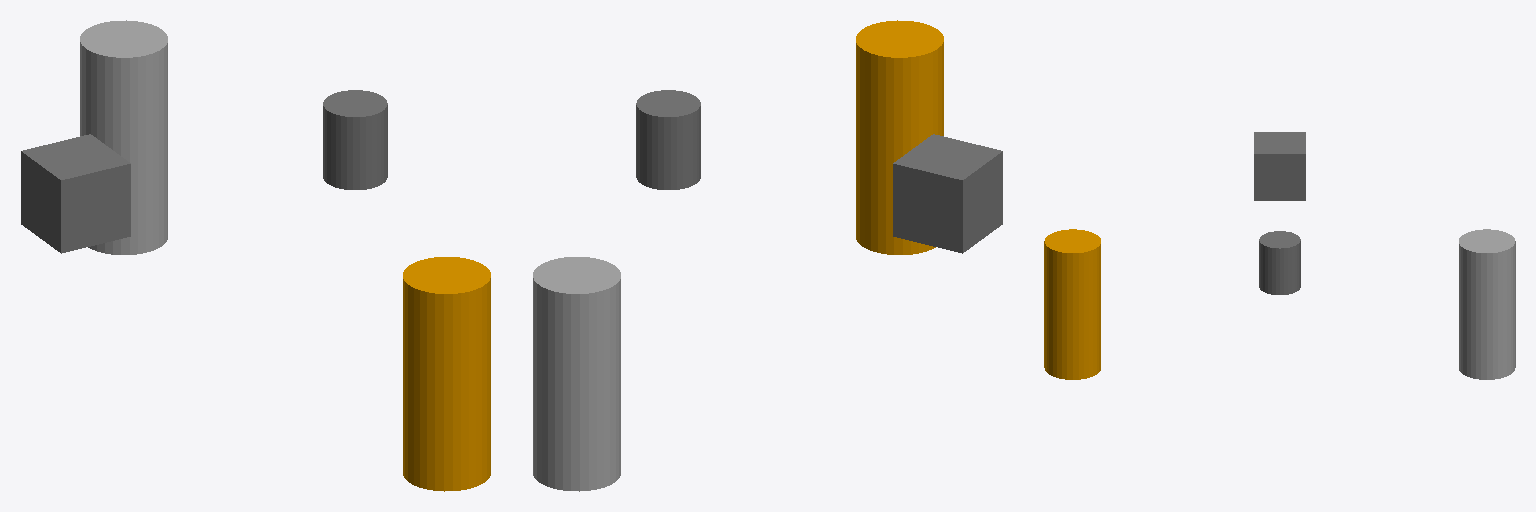
URDF robot description (orca4_ign):
<?xml version='1.0'?>
<robot name="orca4_ign" xmlns:xacro="http://ros.org/wiki/xacro">
    <origin xyz="0 0 0" rpy="0 0 0"/>
    <material name="grey">
      <color rgba="0.5 0.5 0.5 1.0"/>
    </material>

    <!-- BlueROV2 thruster reference: http://www.ardusub.com/introduction/features.html -->
    <!-- fluid_density: 1000 -->
    <!-- displaced_mass: 10.05 -->

    <link name="base_link">
      <inertial>
        <origin xyz="0 0 0.011" rpy="0 0 0"/>
        <mass value="10.036"/>
        <inertia ixx="0.09873097998042396" ixy="0.0" ixz="0.0" iyy="0.17756847998042397" iyz="0.0" izz="0.2692441666666667"/>
      </inertial>

      <visual name="base_link_visual">
        <geometry>
          <mesh filename="package://auv_slam/models/orca4_ign/meshes/bluerov2.dae" scale = "0.025 0.025 0.025"/>
        </geometry>
      </visual>

      <!-- Collision volume * fluid_density == displaced mass, used by BuoyancyPlugin -->
      <collision name="base_link_collision">
        <origin xyz="0 0 0.06" rpy="0 0 0"/>
        <geometry>
          <box size = "0.457 0.338 0.06506286173008947"/>
        </geometry>
      </collision>

    </link>

    <!-- Hydrodynamics plugin -->
    <gazebo>
    <plugin
        filename="ignition-gazebo-hydrodynamics-system"
        name="ignition::gazebo::systems::Hydrodynamics">
      <link_name>base_link</link_name>
      <water_density>1000</water_density>
      <!-- Added mass: -->
      <xDotU>0</xDotU>
      <yDotV>0</yDotV>
      <zDotW>0</zDotW>
      <kDotP>0</kDotP>
      <mDotQ>0</mDotQ>
      <nDotR>0</nDotR>
      <!-- First order stability derivative: -->
      <xU>0</xU>
      <yV>0</yV>
      <zW>0</zW>
      <kP>0</kP>
      <mQ>0</mQ>
      <nR>0</nR>
      <!-- Second order stability derivative: -->
      <xUabsU>-33.800000000000004</xUabsU>
      <yVabsV>-54.26875</yVabsV>
      <zWabsW>-73.37135</zWabsW>
      <kPabsP>-4.0</kPabsP>
      <mQabsQ>-4.0</mQabsQ>
      <nRabsR>-4.0</nRabsR>
    </plugin>
    </gazebo>

    <link name="thruster1">
      <visual name="thruster_prop_visual">
        <origin xyz="0 0 0" rpy="1.5707963267948966 0 0"/>
        <geometry>
          <mesh filename="package://auv_slam/models/orca4_ign/meshes/t200-cw-prop.dae"/>
        </geometry>
      </visual>
      <inertial>
        <mass value="0.002"/>
        <inertia ixx="0.001" ixy="0.0" ixz="0.0" iyy="0.001" iyz="0.0" izz="0.001" />
      </inertial>
    </link>

    <link name="thruster2">
      <origin xyz="0.14 0.092 0" rpy="-1.5707963267948966 1.5707963267948966 -2.356194490192345"/>
      <visual name="thruster_prop_visual">
        <origin xyz="0 0 0" rpy="1.5707963267948966 0 0"/>
        <geometry>
          <mesh filename="package://auv_slam/models/orca4_ign/meshes/t200-ccw-prop.dae"/>
        </geometry>
      </visual>
      <inertial>
        <mass value="0.002"/>
        <inertia ixx="0.001" ixy="0.0" ixz="0.0" iyy="0.001" iyz="0.0" izz="0.001" />
      </inertial>
    </link>

    <link name="thruster3">
      <origin xyz="-0.14 -0.092 0" rpy="-1.5707963267948966 1.5707963267948966 0.7853981633974483"/>
      <visual name="thruster_prop_visual">
        <origin xyz="0 0 0" rpy="-1.5707963267948966 0 0"/>
        <geometry>
          <mesh filename="package://auv_slam/models/orca4_ign/meshes/t200-ccw-prop.dae"/>
        </geometry>
      </visual>
      <inertial>
        <mass value="0.002"/>
        <inertia ixx="0.001" ixy="0.0" ixz="0.0" iyy="0.001" iyz="0.0" izz="0.001" />
      </inertial>
    </link>

    <link name="thruster4">
      <origin xyz="-0.14 0.092 0" rpy="-1.5707963267948966 1.5707963267948966 2.356194490192345"/>
      <visual name="thruster_prop_visual">
        <origin xyz="0 0 0" rpy="1.5707963267948966 0 0"/>
        <geometry>
          <mesh filename="package://auv_slam/models/orca4_ign/meshes/t200-cw-prop.dae"/>
        </geometry>
      </visual>
      <inertial>
        <mass value="0.002"/>
        <inertia ixx="0.001" ixy="0.0" ixz="0.0" iyy="0.001" iyz="0.0" izz="0.001" />
      </inertial>
    </link>

    <link name="thruster5">
      <origin xyz="0 -0.109 0.077" rpy="0 0 0"/>
      <visual name="thruster_prop_visual">
        <origin xyz="0 0 0" rpy="-1.5707963267948966 0 1.5707963267948966"/>
        <geometry>
          <mesh filename="package://auv_slam/models/orca4_ign/meshes/t200-ccw-prop.dae"/>
        </geometry>
      </visual>
      <inertial>
        <mass value="0.002"/>
        <inertia ixx="0.001" ixy="0.0" ixz="0.0" iyy="0.001" iyz="0.0" izz="0.001" />
      </inertial>
    </link>

    <link name="thruster6">
      <origin xyz="0 0.109 0.077" rpy="0 0 0"/>
      <visual name="thruster_prop_visual">
        <origin xyz="0 0 0" rpy="1.5707963267948966 0 1.5707963267948966"/>
        <geometry>
          <mesh filename="package://auv_slam/models/orca4_ign/meshes/t200-cw-prop.dae"/>
        </geometry>
      </visual>
      <inertial>
        <mass value="0.002"/>
        <inertia ixx="0.001" ixy="0.0" ixz="0.0" iyy="0.001" iyz="0.0" izz="0.001" />
      </inertial>
    </link>


    <joint name="thruster1_joint" type="revolute">
      <parent link = "base_link" />
      <child link = "thruster1" />
      <origin xyz="0.14 -0.092 0" rpy="-1.5707963267948966 1.5707963267948966 -0.7853981633974483"/>
      <axis xyz = "0 0 -1" />
      <limit lower="-1e+12" upper="1e+12" effort="-1" velocity="-1"/>
    </joint>

    <joint name="thruster2_joint" type="revolute">
      <parent link = "base_link" />
      <child link = "thruster2" />
      <origin xyz="0.14 0.092 0" rpy="-1.5707963267948966 1.5707963267948966 -2.356194490192345"/>
      <axis xyz = "0 0 -1" />
      <limit lower="-1e+12" upper="1e+12" effort="-1" velocity="-1"/>
    </joint>

    <joint name="thruster3_joint" type="revolute">
      <parent link = "base_link" />
      <child link = "thruster3" />
      <origin xyz="-0.14 -0.092 0" rpy="-1.5707963267948966 1.5707963267948966 0.7853981633974483"/>
      <axis xyz = "0 0 -1" />
      <limit lower="-1e+12" upper="1e+12" effort="-1" velocity="-1"/>
    </joint>

    <joint name="thruster4_joint" type="revolute">
      <parent link = "base_link" />
      <child link = "thruster4" />
      <origin xyz="-0.14 0.092 0" rpy="-1.5707963267948966 1.5707963267948966 2.356194490192345"/>
      <axis xyz = "0 0 -1" />
      <limit lower="-1e+12" upper="1e+12" effort="-1" velocity="-1"/>
    </joint>

    <joint name="thruster5_joint" type="revolute">
      <parent link = "base_link" />
      <child link = "thruster5" />
      <origin xyz="0 -0.109 0.077" rpy="0 0 0"/>
      <axis xyz = "0 0 -1" />
      <limit lower="-1e+12" upper="1e+12" effort="-1" velocity="-1"/>
    </joint>

    <joint name="thruster6_joint" type="revolute">
      <parent link = "base_link" />
      <child link = "thruster6" />
      <origin xyz="0 0.109 0.077" rpy="0 0 0"/>
      <axis xyz = "0 0 -1" />
      <limit lower="-1e+12" upper="1e+12" effort="-1" velocity="-1"/>
    </joint>

    <gazebo>
    <plugin
        filename="ignition-gazebo-thruster-system"
        name="ignition::gazebo::systems::Thruster">
      <namespace>orca4_ign</namespace>
      <joint_name>thruster1_joint</joint_name>
      <thrust_coefficient>1</thrust_coefficient>
      <fluid_density>1000</fluid_density>
      <propeller_diameter>0.1</propeller_diameter>
      <velocity_control>true</velocity_control>
      <use_angvel_cmd>False</use_angvel_cmd>
    </plugin>
    </gazebo>

    <gazebo>
    <plugin
        filename="ignition-gazebo-thruster-system"
        name="ignition::gazebo::systems::Thruster">
      <namespace>orca4_ign</namespace>
      <joint_name>thruster2_joint</joint_name>
      <thrust_coefficient>1</thrust_coefficient>
      <fluid_density>1000</fluid_density>
      <propeller_diameter>0.1</propeller_diameter>
      <velocity_control>true</velocity_control>
      <use_angvel_cmd>False</use_angvel_cmd>
    </plugin>
    </gazebo>

    <gazebo>
    <plugin
        filename="ignition-gazebo-thruster-system"
        name="ignition::gazebo::systems::Thruster">
      <namespace>orca4_ign</namespace>
      <joint_name>thruster3_joint</joint_name>
      <thrust_coefficient>-1</thrust_coefficient>
      <fluid_density>1000</fluid_density>
      <propeller_diameter>0.1</propeller_diameter>
      <velocity_control>true</velocity_control>
      <use_angvel_cmd>False</use_angvel_cmd>
    </plugin>
    </gazebo>

    <gazebo>
    <plugin
        filename="ignition-gazebo-thruster-system"
        name="ignition::gazebo::systems::Thruster">
      <namespace>orca4_ign</namespace>
      <joint_name>thruster4_joint</joint_name>
      <thrust_coefficient>-1</thrust_coefficient>
      <fluid_density>1000</fluid_density>
      <propeller_diameter>0.1</propeller_diameter>
      <velocity_control>true</velocity_control>
      <use_angvel_cmd>False</use_angvel_cmd>
    </plugin>
    </gazebo>

    <gazebo>
    <plugin
        filename="ignition-gazebo-thruster-system"
        name="ignition::gazebo::systems::Thruster">
      <namespace>orca4_ign</namespace>
      <joint_name>thruster5_joint</joint_name>
      <thrust_coefficient>1</thrust_coefficient>
      <fluid_density>1000</fluid_density>
      <propeller_diameter>0.1</propeller_diameter>
      <velocity_control>true</velocity_control>
      <use_angvel_cmd>False</use_angvel_cmd>
    </plugin>
    </gazebo>

    <gazebo>
    <plugin
        filename="ignition-gazebo-thruster-system"
        name="ignition::gazebo::systems::Thruster">
      <namespace>orca4_ign</namespace>
      <joint_name>thruster6_joint</joint_name>
      <thrust_coefficient>-1</thrust_coefficient>
      <fluid_density>1000</fluid_density>
      <propeller_diameter>0.1</propeller_diameter>
      <velocity_control>true</velocity_control>
      <use_angvel_cmd>False</use_angvel_cmd>
    </plugin>
    </gazebo>

    <!-- Left camera link -->
    <link name="left_camera_link">
      <origin xyz = "0.15 0.2 -0.06749999999999999" rpy= "0 0 0"/>
      <visual name="left_camera_tube">
        <transparency>0.5</transparency>
        <geometry>
          <cylinder length = "0.135" radius = "0.0275" />
        </geometry>
      </visual>
      <inertial>
        <mass value="0.001"/>
        <inertia ixx="0.001" ixy="0.0" ixz="0.0" iyy="0.001" iyz="0.0" izz="0.001" />
      </inertial>
    </link>

    <!-- Attach left_camera_link to base_link -->
    <joint name="left_camera_joint" type="fixed">
      <parent link = "base_link" />
      <child link = "left_camera_link" />
      <origin xyz = "0.15 0.2 -0.0675" rpy= "0 0 1.5707963267948966"/>
    </joint>

    <gazebo reference="left_camera_link">
      <sensor name="left_camera" type="camera">
        <origin xyz = "0.15 0.2 -0.0675" rpy = "0 0 1.5707963267948966" />
          <camera>
          <horizontal_fov>1.4</horizontal_fov>
          <image>
            <width>800</width>
            <height>600</height>
          </image>
          <clip>
            <near>0.1</near>
            <far>50.0</far>
          </clip>
          <optical_frame_id>left_camera_link</optical_frame_id>
        </camera>
        <always_on>1</always_on>
        <update_rate>5</update_rate>
        <visualize>true</visualize>
        <topic>stereo_left</topic>
      </sensor>
      </gazebo>

    <!-- Right camera link -->
    <link name="right_camera_link">
      <origin xyz = "0.15 -0.2 -0.0675" rpy = "0 0 0" />
      <visual name="right_camera_tube">
        <transparency>0.5</transparency>
        <geometry>
          <cylinder length = "0.135" radius = "0.0275" />
        </geometry>
      </visual>
      <inertial>
        <mass value="0.001"/>
        <inertia ixx="0.001" ixy="0.0" ixz="0.0" iyy="0.001" iyz="0.0" izz="0.001" />
      </inertial>
    </link>

    <!-- Attach right_camera_link to base_link -->
    <joint name="right_camera_joint" type="fixed">
      <parent link = "base_link" />
      <child link = "right_camera_link" />
      <origin xyz = "0.15 -0.2 -0.0675" rpy = "0 0 -1.5707963267948966" />
    </joint>

    <gazebo reference="right_camera_link">
    <sensor name="right_camera" type="camera">
        <origin xyz = "0.15 -0.2 -0.0675" rpy = "0 0 -1.5707963267948966" />
        <camera>
          <horizontal_fov>2.5</horizontal_fov>
           <image>
            <width>1280</width>
            <height>720</height>
          </image>
          <clip>
            <near>0.1</near>
            <far>50.0</far>
          </clip>
          <optical_frame_id>right_camera_link</optical_frame_id>
        </camera>
        <always_on>1</always_on>
        <update_rate>5</update_rate>
        <visualize>true</visualize>
        <topic>stereo_right</topic>
      </sensor>
      </gazebo>

    <!-- Forward Camera Link -->
    <link name="camera_forward_link">
      <visual>
        <geometry>
          <cylinder length="0.05" radius="0.02"/>
        </geometry>
        <material name="grey"/>
      </visual>
      <inertial>
        <mass value="0.001"/>
        <inertia ixx="0.001" ixy="0.0" ixz="0.0" iyy="0.001" iyz="0.0" izz="0.001"/>
      </inertial>
    </link>

    <joint name="camera_forward_joint" type="fixed">
      <parent link="base_link"/>
      <child link="camera_forward_link"/>
      <origin xyz="0.2 0 0" rpy="0 0 0"/>
    </joint>

    <gazebo reference="camera_forward_link">
      <sensor name="camera_forward" type="camera">
        <camera>
          <horizontal_fov>1.4</horizontal_fov>
          <image>
            <width>800</width>
            <height>600</height>
          </image>
          <clip>
            <near>0.2</near>
            <far>15</far>
          </clip>
          <optical_frame_id>camera_forward_link</optical_frame_id>
        </camera>
        <always_on>1</always_on>
        <update_rate>30</update_rate>
        <visualize>true</visualize>
        <topic>camera_forward/image_raw</topic>
      </sensor>
    </gazebo>  

    <!-- Publish the ground-truth pose for rviz -->
    <!-- <plugin
        filename="ignition-gazebo-odometry-publisher-system"
        name="ignition::gazebo::systems::OdometryPublisher">
      <odom_frame>map</odom_frame>
      <robot_base_frame>orca4_ign</robot_base_frame>
      <dimensions>3</dimensions>
    </plugin> -->

    <gazebo>
    <plugin
    filename="ignition-gazebo-odometry-publisher-system"
    name="ignition::gazebo::systems::OdometryPublisher">
    <link_name>base_link</link_name>  <!-- Use your main body link -->
    <odom_publish_topic>/odom</odom_publish_topic> <!-- Optional -->
    <frame_id>odom</frame_id>
    <child_frame_id>base_link</child_frame_id>
    <publish_tf>true</publish_tf>
    <use_world_coordinates>true</use_world_coordinates>
    <covariance> <!-- Optional -->
      0.01 0 0 0 0 0
      0 0.01 0 0 0 0
      0 0 0.01 0 0 0
      0 0 0 0.01 0 0
      0 0 0 0 0.01 0
      0 0 0 0 0 0.01
    </covariance>
  </plugin>
  </gazebo>

    <link name="imu_link">
      <visual>
        <geometry>
          <box size="0.05 0.05 0.05"/>
        </geometry>
        <material name="grey"/>
      </visual>

      <collision name="imu_collision">
        <geometry>
          <box>
          <size>0.1 0.1 0.1</size>
          </box>
        </geometry>
      </collision>

      <inertial>
        <origin xyz="0 0 0" rpy="3.141592653589793 0 0"/>
        <mass value="0.001"/>
        <inertia>
          <ixx>0.001</ixx>
          <ixy>0</ixy>
          <ixz>0</ixz>
          <iyy>0.001</iyy>
          <iyz>0</iyz>
          <izz>0.001</izz>
        </inertia>
      </inertial>
    </link>

  <joint name="imu_joint" type="fixed">
    <parent link="base_link"/>
    <child link="imu_link"/>
    <origin xyz="0 0 0.01"/>
  </joint>


  <gazebo reference="imu_link">
  <sensor name="imu_sensor" type="imu">
        <ignition_frame_id>imu_link</ignition_frame_id>
        <plugin filename="ignition-gazebo-imu-system" name="ignition::gazebo::systems::Imu">
        </plugin>

        <topic>/demo/imu</topic>
        <always_on>true</always_on>
        <update_rate>100</update_rate>
        <visualize>true</visualize>
        <enable_metrics>true</enable_metrics>
        <imu>
          <angular_velocity>
            <x>
              <noise type="gaussian">
                <mean>0.0</mean>
                <stddev>2e-4</stddev>
                <bias_mean>0.0000075</bias_mean>
                <bias_stddev>0.0000008</bias_stddev>
              </noise>
            </x>
            <y>
              <noise type="gaussian">
                <mean>0.0</mean>
                <stddev>2e-4</stddev>
                <bias_mean>0.0000075</bias_mean>
                <bias_stddev>0.0000008</bias_stddev>
              </noise>
            </y>
            <z>
              <noise type="gaussian">
                <mean>0.0</mean>
                <stddev>2e-4</stddev>
                <bias_mean>0.0000075</bias_mean>
                <bias_stddev>0.0000008</bias_stddev>
              </noise>
            </z>
          </angular_velocity>
          <linear_acceleration>
            <x>
              <noise type="gaussian">
                <mean>0.0</mean>
                <stddev>1.7e-2</stddev>
                <bias_mean>0.1</bias_mean>
                <bias_stddev>0.001</bias_stddev>
              </noise>
            </x>
            <y>
              <noise type="gaussian">
                <mean>0.0</mean>
                <stddev>1.7e-2</stddev>
                <bias_mean>0.1</bias_mean>
                <bias_stddev>0.001</bias_stddev>
              </noise>
            </y>
            <z>
              <noise type="gaussian">
                <mean>0.0</mean>
                <stddev>1.7e-2</stddev>
                <bias_mean>0.1</bias_mean>
                <bias_stddev>0.001</bias_stddev>
              </noise>
            </z>
          </linear_acceleration>
          <frame_id>imu_link</frame_id>
        </imu>
      </sensor>
  </gazebo>

</robot>

--- What the picture shows (computed from the rendered views, not written in the file) ---
Views: 3 orthographic renders of the robot side by side, from view 1: azimuth 30°, elevation 25°; view 2: azimuth 150°, elevation 25°; view 3: azimuth 270°, elevation 25°.
Robot: orca4_ign — 11 links, 10 joints (6 revolute, 4 fixed); root link base_link; default pose: every joint at zero.
Links seen in each view (by area): view 1: right_camera_link, left_camera_link, imu_link, camera_forward_link; view 2: left_camera_link, right_camera_link, imu_link, camera_forward_link; view 3: left_camera_link, right_camera_link, imu_link, camera_forward_link.
Link boxes in pixels (box(x1,y1,x2,y2)): right_camera_link: box(403, 257, 490, 491); left_camera_link: box(80, 20, 167, 254); imu_link: box(21, 134, 130, 253); camera_forward_link: box(323, 90, 387, 189); left_camera_link: box(533, 257, 620, 491); right_camera_link: box(856, 20, 943, 254); imu_link: box(893, 134, 1002, 253); camera_forward_link: box(636, 90, 700, 189); left_camera_link: box(1459, 229, 1515, 379); right_camera_link: box(1044, 229, 1100, 379); imu_link: box(1254, 132, 1305, 200); camera_forward_link: box(1259, 231, 1300, 294).
Size in the robot's own frame: 0.245 by 0.455 by 0.17 metres.
Meshes: 3 distinct files referenced, 0 mesh visuals loaded (none loaded); not drawn: 6 (reference not matched to a file when rendering), 1 (file found but could not be loaded).